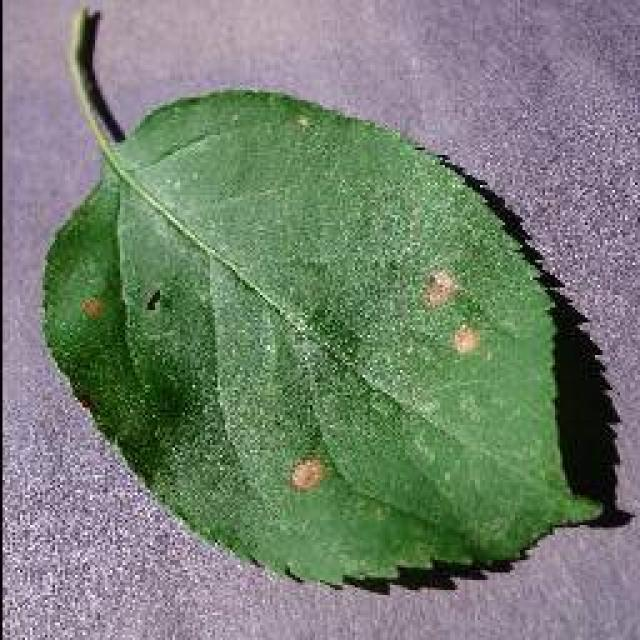apple black rot: (38, 5, 628, 597)
